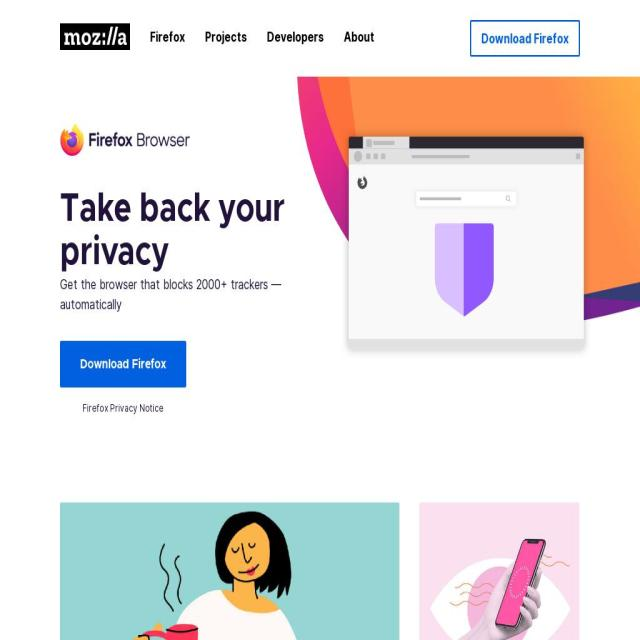button: (60, 501, 400, 640), (419, 501, 579, 640), (60, 340, 186, 388), (470, 20, 580, 57), (60, 23, 130, 50)
heading: (60, 187, 320, 274)
image: (60, 501, 400, 640), (419, 501, 579, 640), (60, 123, 191, 156)
link: (267, 20, 324, 53), (481, 30, 569, 47), (205, 20, 247, 53), (80, 357, 166, 371), (150, 20, 185, 53), (82, 401, 164, 414), (344, 20, 374, 53)
text: (60, 274, 320, 314)
